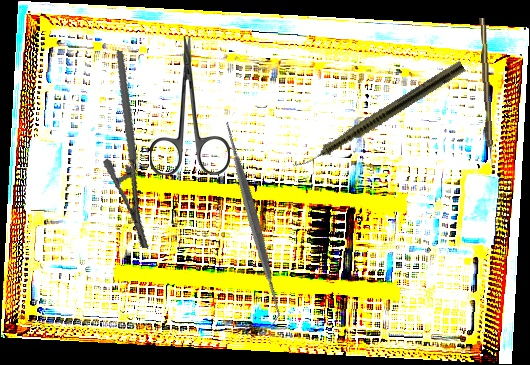Handpiece: (290, 58, 467, 176)
Hook Surgical: (479, 17, 494, 167)
Iris Scissors: (150, 36, 230, 175)
Needle Holder: (76, 49, 190, 250)
Spatula Surgical: (145, 111, 361, 327)
